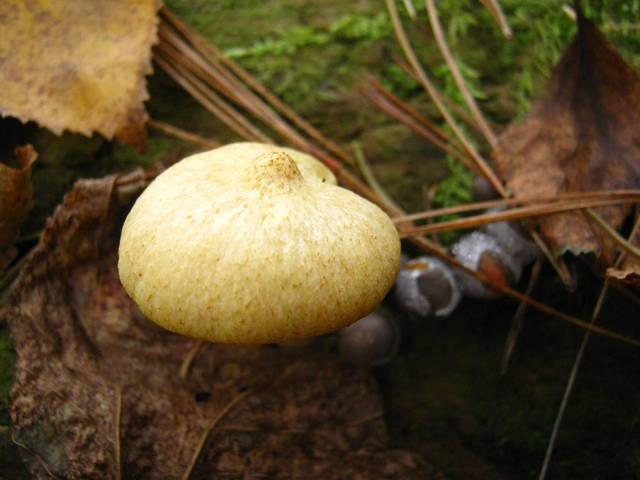Non-edible Mushroom: (115, 139, 402, 346)
